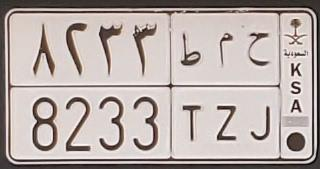2: (64, 20, 92, 153)
3: (131, 22, 159, 152), (98, 24, 126, 151)
8: (31, 23, 58, 152)
J: (247, 31, 272, 142)
T: (179, 32, 202, 142)
Z: (215, 32, 238, 142)
